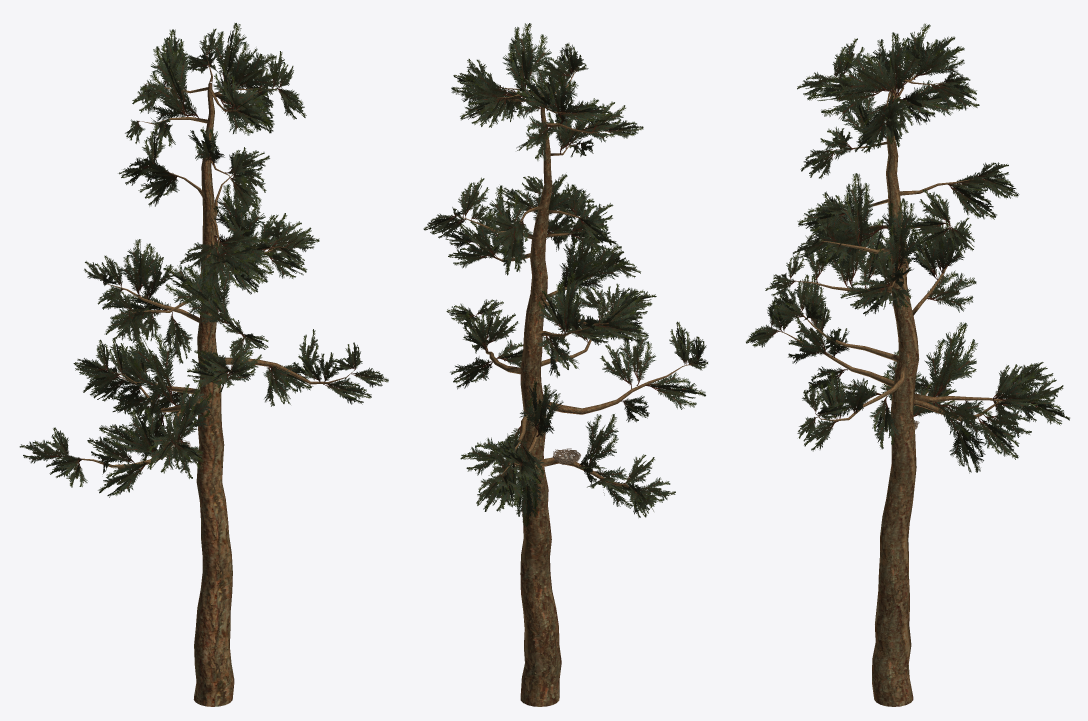
The model's file is heroredwoodprefab.gltf.
The picture shows the model from 3 angles, left to right: view 1: azimuth 30°, elevation 25°; view 2: azimuth 150°, elevation 25°; view 3: azimuth 270°, elevation 25°; orthographic projection.
Visible parts, largest first — view 1: RedWood 2; view 2: RedWood 2; view 3: RedWood 2.
Boxes of the visible parts, <box> form: RedWood 2: <box>19,23,388,706</box>; RedWood 2: <box>423,23,707,706</box>; RedWood 2: <box>746,23,1069,706</box>.
Size of the model in its own units: 17.31 by 37.56 by 16.62.
Materials: 3 (3 with a texture image).
